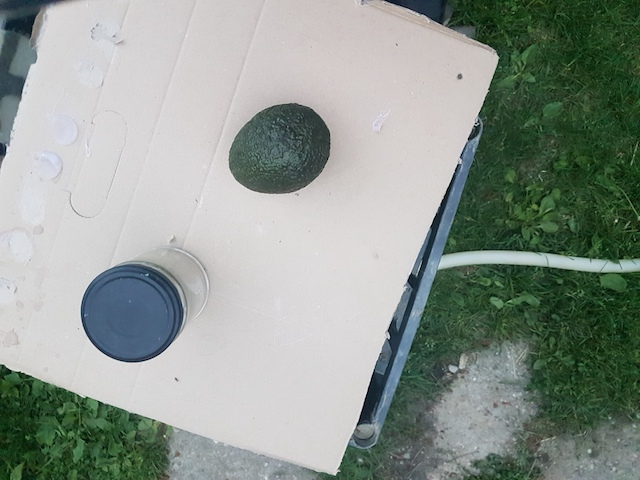avocado: (227, 102, 332, 195)
recipient: (80, 264, 183, 365)
